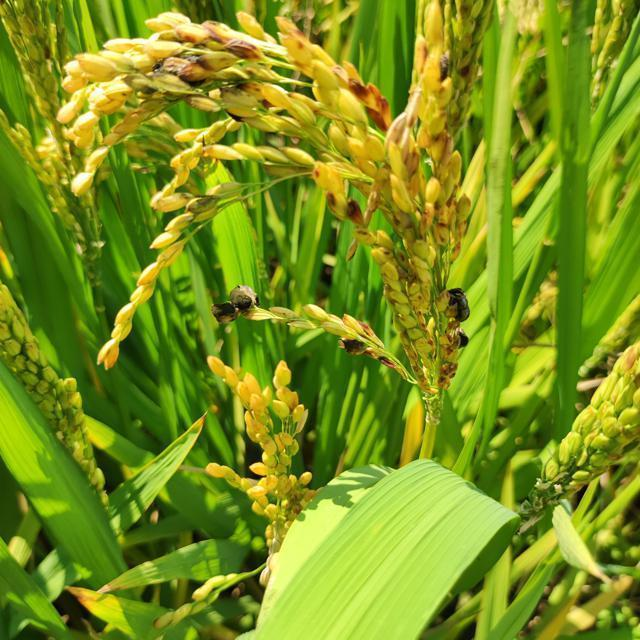Leaf_Scald: (212, 284, 260, 322), (440, 286, 474, 324), (341, 334, 370, 358)
